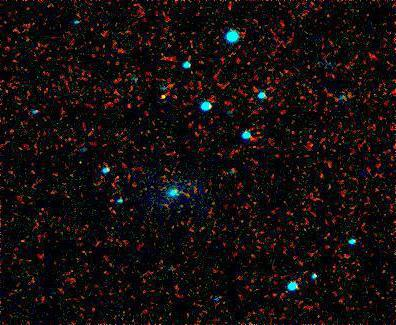star: (150, 81, 180, 111)
